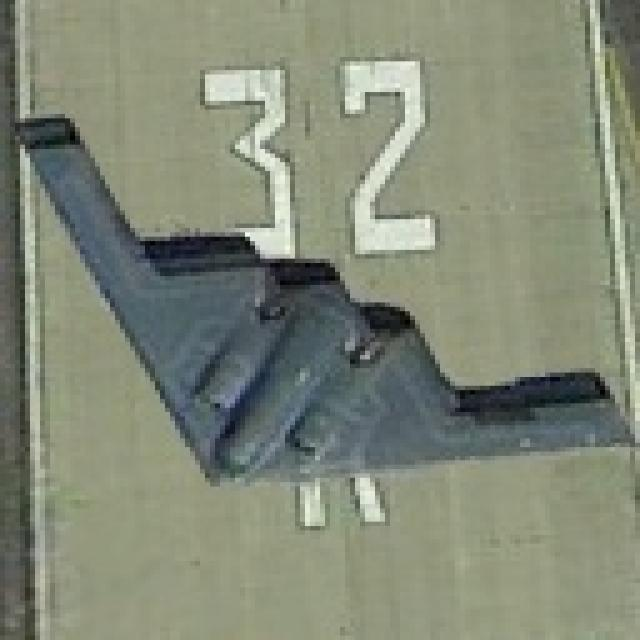B-2_TopDown: (10, 101, 635, 530)
